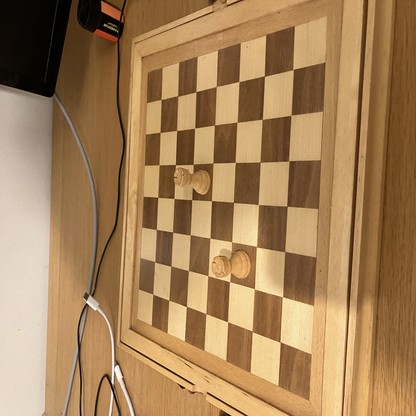rock_white: (213, 252, 251, 279), (173, 169, 210, 194)
